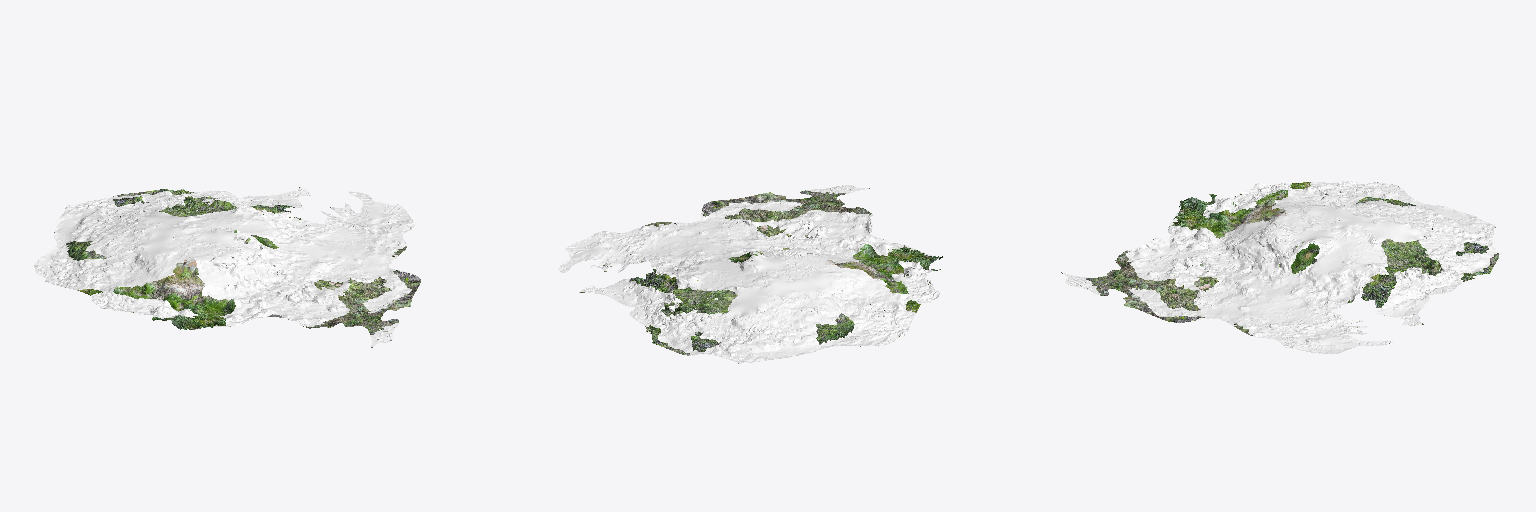
The picture shows the model from 3 angles: view 1: azimuth 30°, elevation 25°; view 2: azimuth 150°, elevation 25°; view 3: azimuth 270°, elevation 25°; orthographic projection.
Size of the model in its own units: 9.09 by 0.7283 by 9.94.
Materials: 2 (1 with a texture image).